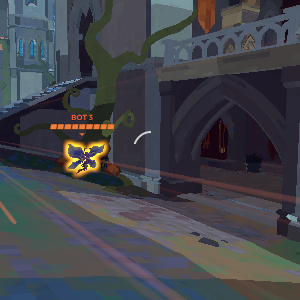model: (70, 140, 96, 178)
